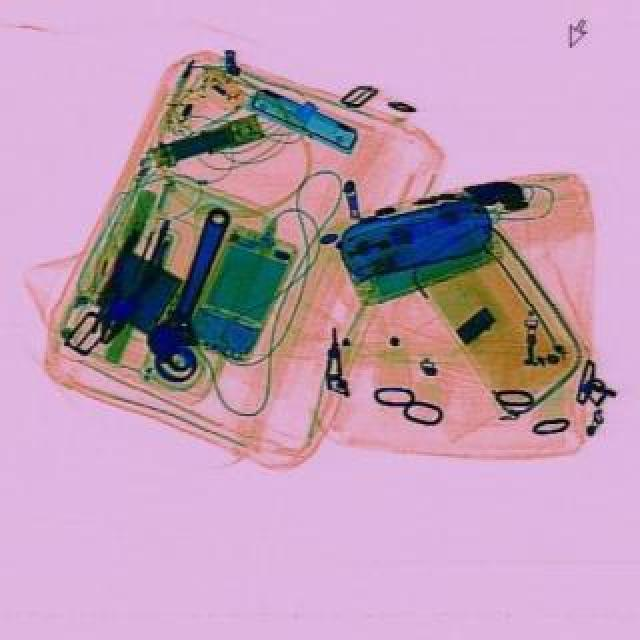scissors: (136, 202, 248, 374)
wrench: (82, 228, 170, 352)
